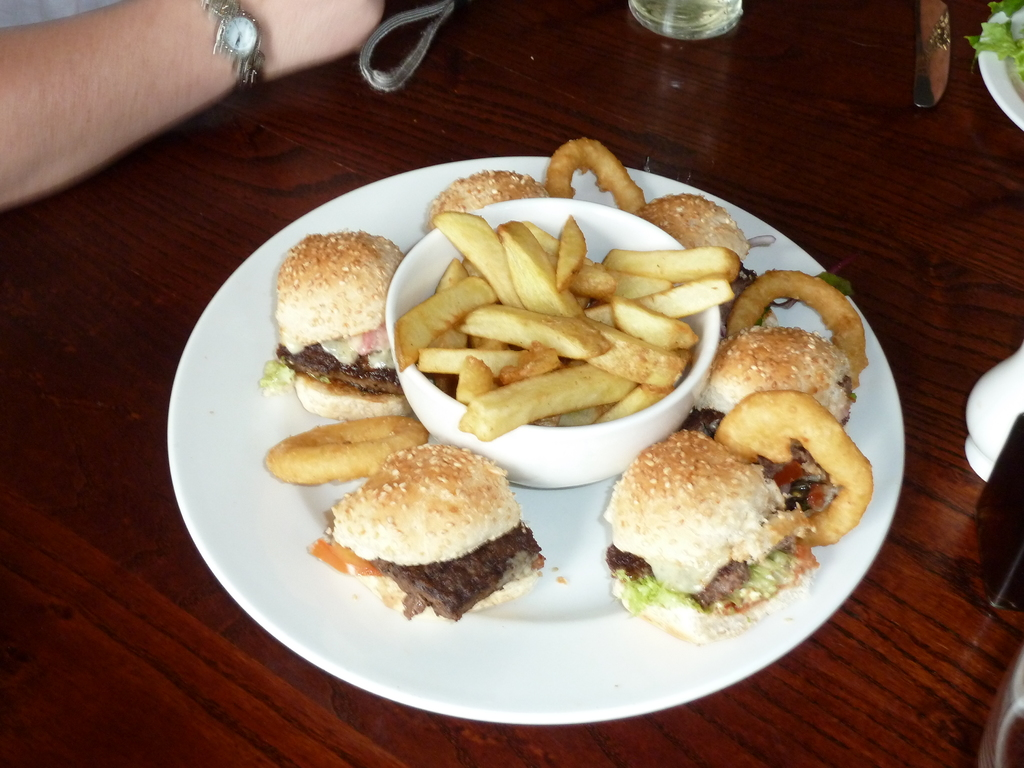French fries: (385, 199, 741, 444)
